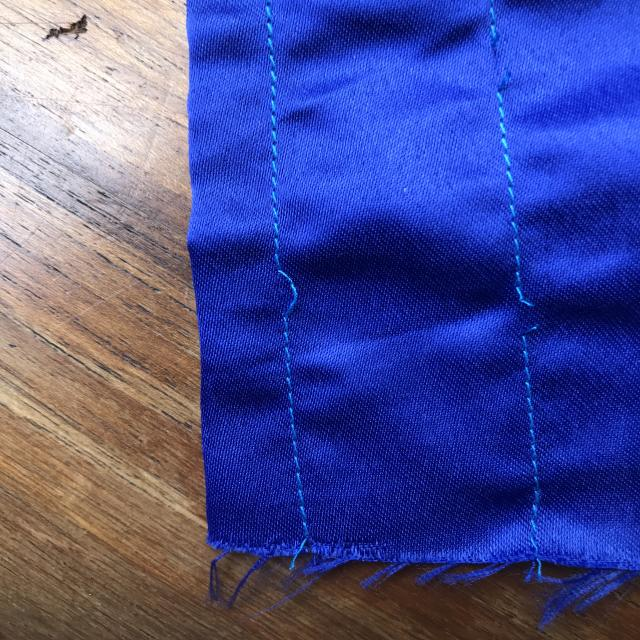broken: (494, 268, 590, 346)
good: (491, 128, 527, 223)
skip: (252, 256, 328, 329)
